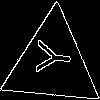Y: (27, 38, 72, 76)
